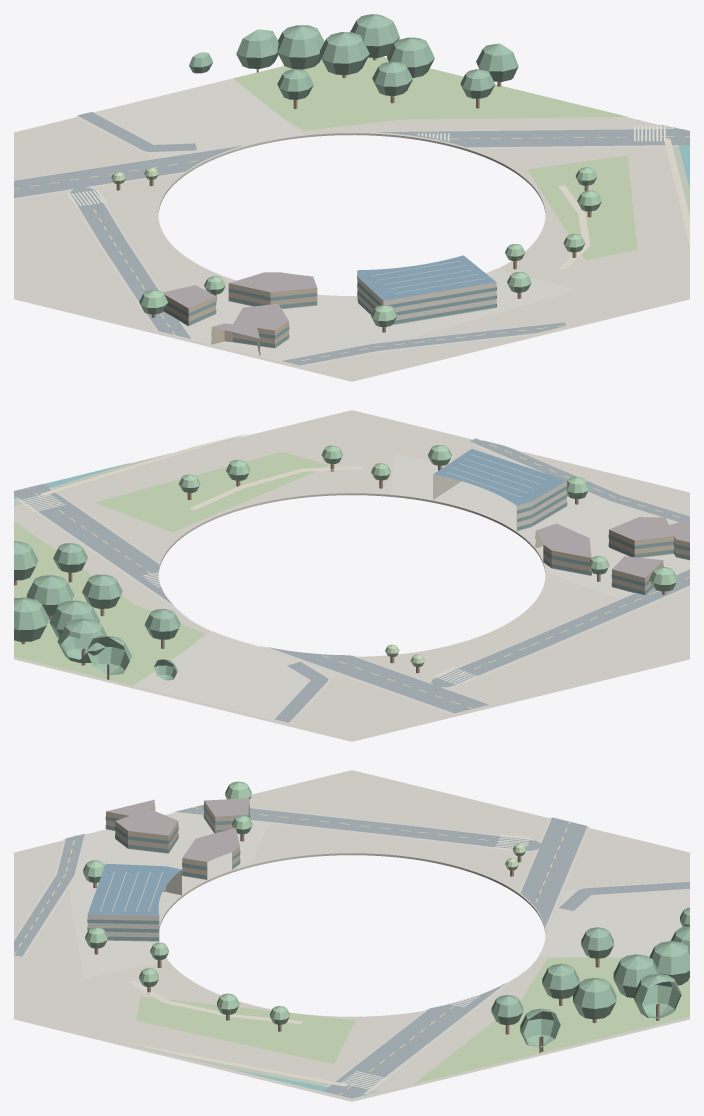
File: surround-P08.glb
3 renders of one model, top to bottom at view 1: azimuth 30°, elevation 25°; view 2: azimuth 150°, elevation 25°; view 3: azimuth 270°, elevation 25°, orthographic.
Visible parts, largest first — view 1: P08_ground, P08_paving, P08_lawn, P08_road, P08_leafdark, P08_solar, P08_roof, P08_leaf, P08_glass, P08_sand, P08_ivory, P08_path (+2 smaller); view 2: P08_ground, P08_paving, P08_road, P08_lawn, P08_leafdark, P08_solar, P08_roof, P08_leaf, P08_sand, P08_glass, P08_path, P08_ivory (+4 smaller); view 3: P08_ground, P08_paving, P08_lawn, P08_road, P08_leafdark, P08_solar, P08_roof, P08_leaf, P08_glass, P08_sand, P08_ivory, P08_path (+4 smaller).
Part boxes in pixels (x1,y1,x2,y2): P08_ground: [14, 116, 689, 381]; P08_paving: [14, 78, 678, 366]; P08_lawn: [233, 57, 637, 260]; P08_road: [14, 112, 689, 365]; P08_leafdark: [189, 14, 518, 99]; P08_solar: [357, 255, 496, 300]; P08_roof: [163, 272, 316, 338]; P08_leaf: [139, 167, 601, 326]; P08_glass: [163, 276, 496, 355]; P08_sand: [164, 283, 317, 356]; P08_ivory: [357, 271, 496, 325]; P08_path: [558, 138, 689, 269]; P08_ground: [14, 410, 689, 741]; P08_paving: [16, 441, 689, 723]; P08_road: [14, 438, 689, 722]; P08_lawn: [14, 452, 329, 685]; P08_leafdark: [14, 541, 180, 680]; P08_solar: [433, 449, 566, 505]; P08_roof: [535, 517, 689, 577]; P08_leaf: [179, 445, 677, 591]; P08_sand: [535, 530, 689, 594]; P08_glass: [517, 486, 689, 594]; P08_path: [41, 433, 362, 509]; P08_ivory: [433, 474, 566, 531]; P08_ground: [14, 770, 689, 1101]; P08_paving: [14, 807, 689, 1098]; P08_lawn: [136, 957, 689, 1084]; P08_road: [14, 804, 689, 1098]; P08_leafdark: [491, 907, 689, 1047]; P08_solar: [87, 863, 181, 915]; P08_roof: [106, 798, 249, 861]; P08_leaf: [83, 781, 289, 1024]; P08_glass: [87, 806, 249, 940]; P08_sand: [106, 801, 249, 880]; P08_ivory: [87, 870, 181, 941]; P08_path: [116, 980, 347, 1086].
Bounding box in the file's own units: 16.16 × 1.08 × 14.
